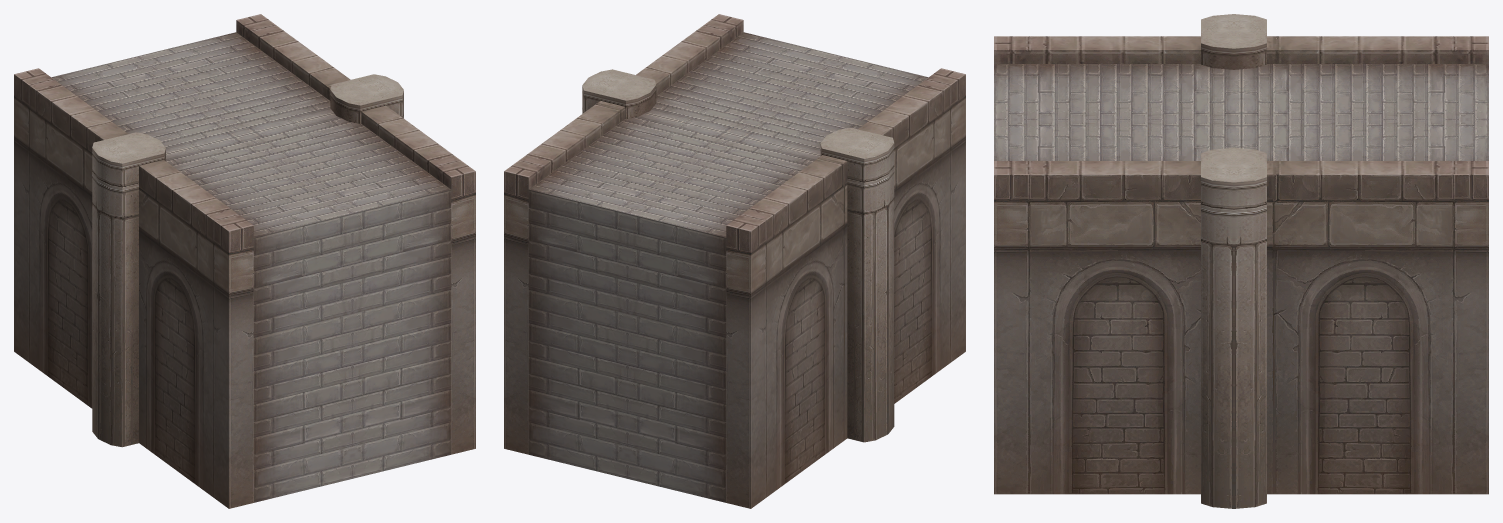
The model's file is cs_lobbynew02_Terrains_02_lu01.FBX.
3 views of the same model, side by side, from view 1: azimuth 30°, elevation 25°; view 2: azimuth 150°, elevation 25°; view 3: azimuth 270°, elevation 25° (orthographic). The views are drawn at different scales.
Visible parts, largest first — view 1: cs_lobbynew02_Terrains_02_lu01; view 2: cs_lobbynew02_Terrains_02_lu01; view 3: cs_lobbynew02_Terrains_02_lu01.
Boxes of the visible parts, x1,y1,x2,y2 form: cs_lobbynew02_Terrains_02_lu01: [14, 14, 475, 508]; cs_lobbynew02_Terrains_02_lu01: [504, 14, 965, 508]; cs_lobbynew02_Terrains_02_lu01: [994, 14, 1488, 508].
Bounding box in the file's own units: 506 × 457 × 628.
